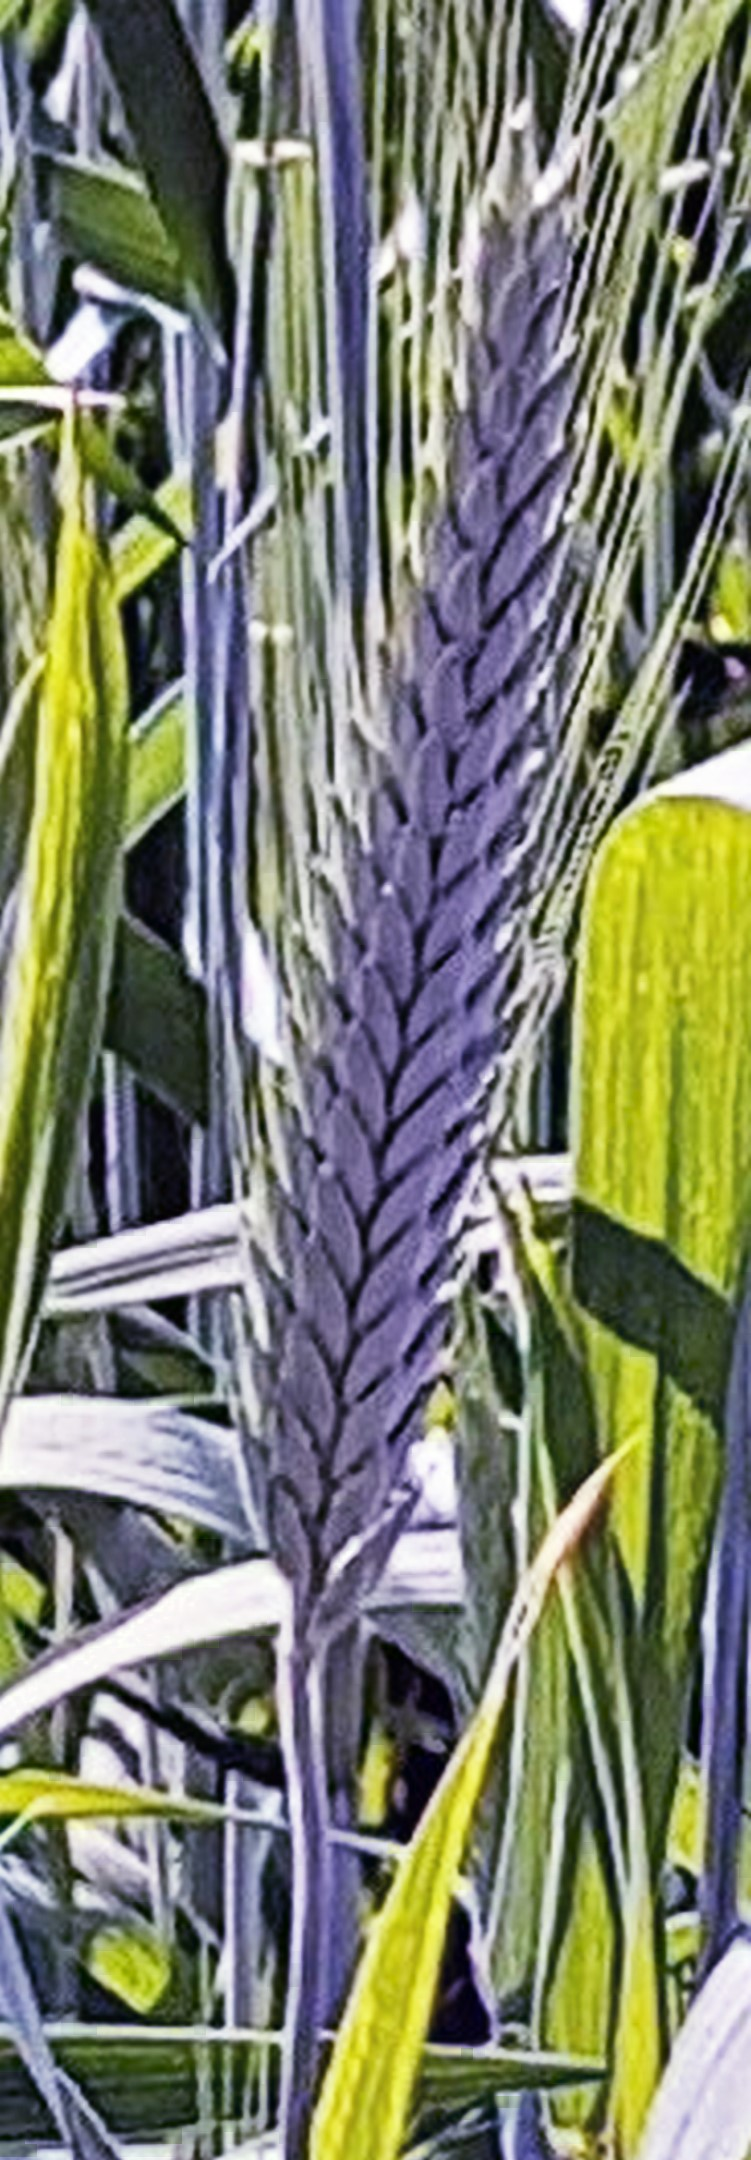Healthy Wheat: (251, 158, 617, 1580)
